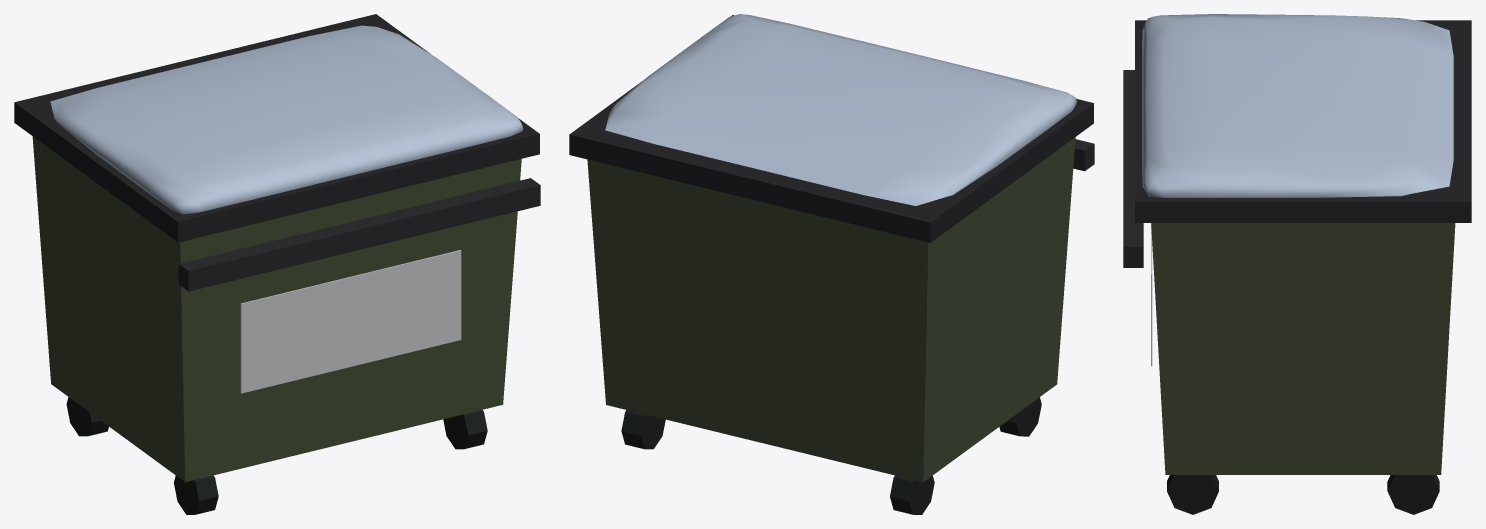
Rendered from dumpster.glb.
3 views of the same model, side by side, from view 1: azimuth 30°, elevation 25°; view 2: azimuth 150°, elevation 25°; view 3: azimuth 270°, elevation 25° (orthographic). The views are drawn at different scales.
Parts seen in each view (by area): view 1: Prop; view 2: Prop; view 3: Prop.
Boxes of the visible parts, bbox=[...] form: Prop: bbox=[14, 14, 540, 514]; Prop: bbox=[569, 14, 1094, 514]; Prop: bbox=[1123, 14, 1471, 514].
Size of the model in its own units: 1.48 by 1.34 by 1.2.
